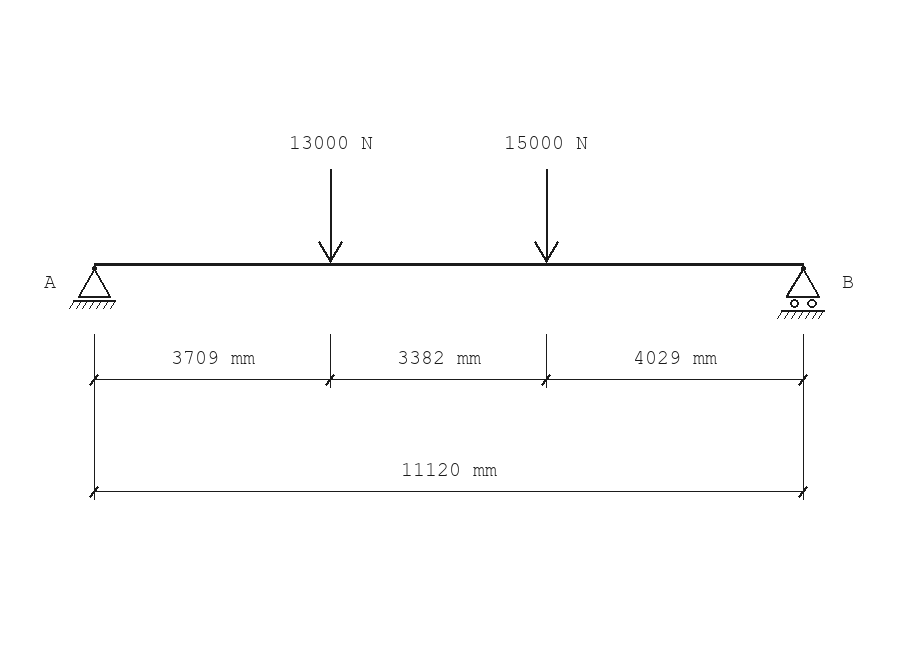pin_support: (69, 266, 116, 309)
point_load: (318, 169, 343, 263), (534, 169, 559, 263)
roller_support: (777, 266, 825, 319)
